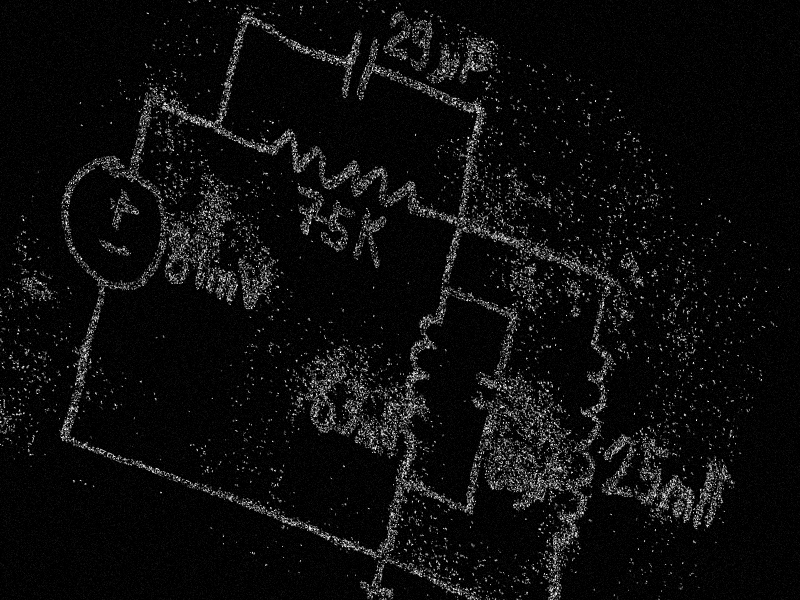2: (593, 425, 647, 510), (376, 5, 419, 67)
3: (331, 378, 372, 445)
5: (627, 435, 672, 514), (318, 198, 359, 261), (505, 447, 535, 498)
6: (303, 355, 351, 439)
7: (280, 177, 334, 251)
8: (155, 221, 201, 297), (480, 430, 519, 497)
9: (402, 12, 443, 78)
F: (456, 37, 494, 94), (535, 460, 564, 511)
H: (689, 458, 729, 536), (372, 415, 403, 462)
V: (234, 258, 278, 318)
k: (346, 202, 396, 276)
m: (189, 254, 243, 309), (653, 470, 700, 531), (352, 420, 382, 453)
u: (428, 42, 465, 93), (518, 469, 544, 516)
